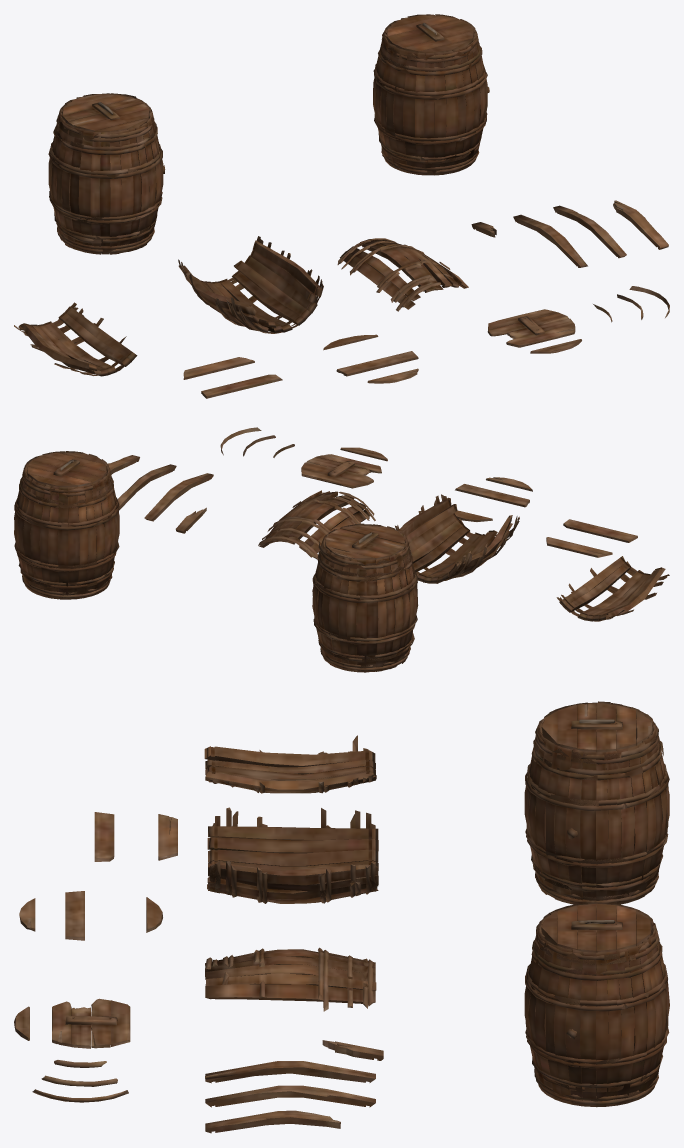
The model's file is wooden_barrels.glb.
The picture shows the model from 3 angles, top to bottom: view 1: azimuth 30°, elevation 25°; view 2: azimuth 150°, elevation 25°; view 3: azimuth 270°, elevation 25°; orthographic projection. The views are drawn at different scales.
Parts seen in each view (by area): view 1: wooden_barrels_01_barrel02, wooden_barrels_01_barrel01, wooden_barrels_01_piece01, wooden_barrels_01_piece03, wooden_barrels_01_piece02, wooden_barrels_01_piece08, wooden_barrels_01_piece04, wooden_barrels_01_piece05, wooden_barrels_01_piece06, wooden_barrels_01_piece11, wooden_barrels_01_piece14, wooden_barrels_01_piece13; view 2: wooden_barrels_01_barrel02, wooden_barrels_01_barrel01, wooden_barrels_01_piece01, wooden_barrels_01_piece03, wooden_barrels_01_piece02, wooden_barrels_01_piece08, wooden_barrels_01_piece04, wooden_barrels_01_piece14, wooden_barrels_01_piece11, wooden_barrels_01_piece05, wooden_barrels_01_piece13; view 3: wooden_barrels_01_barrel01, wooden_barrels_01_barrel02, wooden_barrels_01_piece01, wooden_barrels_01_piece03, wooden_barrels_01_piece02, wooden_barrels_01_piece08, wooden_barrels_01_piece04, wooden_barrels_01_piece05, wooden_barrels_01_piece06, wooden_barrels_01_piece14, wooden_barrels_01_piece11, wooden_barrels_01_piece13 (+1 smaller).
Part boxes in pixels (left/top/right/bottom): wooden_barrels_01_barrel02: left=48, top=93, right=165, bottom=254; wooden_barrels_01_barrel01: left=373, top=14, right=489, bottom=175; wooden_barrels_01_piece01: left=178, top=236, right=323, bottom=333; wooden_barrels_01_piece03: left=337, top=238, right=468, bottom=311; wooden_barrels_01_piece02: left=14, top=302, right=137, bottom=376; wooden_barrels_01_piece08: left=487, top=309, right=575, bottom=347; wooden_barrels_01_piece04: left=513, top=214, right=587, bottom=267; wooden_barrels_01_piece05: left=553, top=205, right=626, bottom=258; wooden_barrels_01_piece06: left=613, top=200, right=668, bottom=249; wooden_barrels_01_piece11: left=336, top=351, right=418, bottom=376; wooden_barrels_01_piece14: left=201, top=374, right=282, bottom=398; wooden_barrels_01_piece13: left=183, top=357, right=254, bottom=379; wooden_barrels_01_barrel02: left=312, top=523, right=418, bottom=672; wooden_barrels_01_barrel01: left=14, top=451, right=119, bottom=599; wooden_barrels_01_piece01: left=395, top=494, right=519, bottom=583; wooden_barrels_01_piece03: left=258, top=490, right=375, bottom=559; wooden_barrels_01_piece02: left=556, top=556, right=669, bottom=621; wooden_barrels_01_piece08: left=301, top=454, right=381, bottom=488; wooden_barrels_01_piece04: left=144, top=473, right=213, bottom=521; wooden_barrels_01_piece14: left=563, top=519, right=637, bottom=542; wooden_barrels_01_piece11: left=455, top=484, right=529, bottom=507; wooden_barrels_01_piece05: left=117, top=464, right=176, bottom=510; wooden_barrels_01_piece13: left=546, top=537, right=612, bottom=557; wooden_barrels_01_barrel01: left=524, top=902, right=669, bottom=1107; wooden_barrels_01_barrel02: left=524, top=701, right=669, bottom=904; wooden_barrels_01_piece01: left=207, top=807, right=378, bottom=903; wooden_barrels_01_piece03: left=205, top=947, right=376, bottom=1011; wooden_barrels_01_piece02: left=204, top=735, right=376, bottom=793; wooden_barrels_01_piece08: left=52, top=998, right=130, bottom=1048; wooden_barrels_01_piece04: left=205, top=1061, right=375, bottom=1083; wooden_barrels_01_piece05: left=205, top=1085, right=375, bottom=1107; wooden_barrels_01_piece06: left=205, top=1110, right=340, bottom=1133; wooden_barrels_01_piece14: left=94, top=812, right=114, bottom=861; wooden_barrels_01_piece11: left=65, top=891, right=84, bottom=940; wooden_barrels_01_piece13: left=158, top=814, right=177, bottom=860.
Bounding box in the file's own units: 4.44 × 0.953 × 3.34.
Materials: 3 (3 with a texture image).
